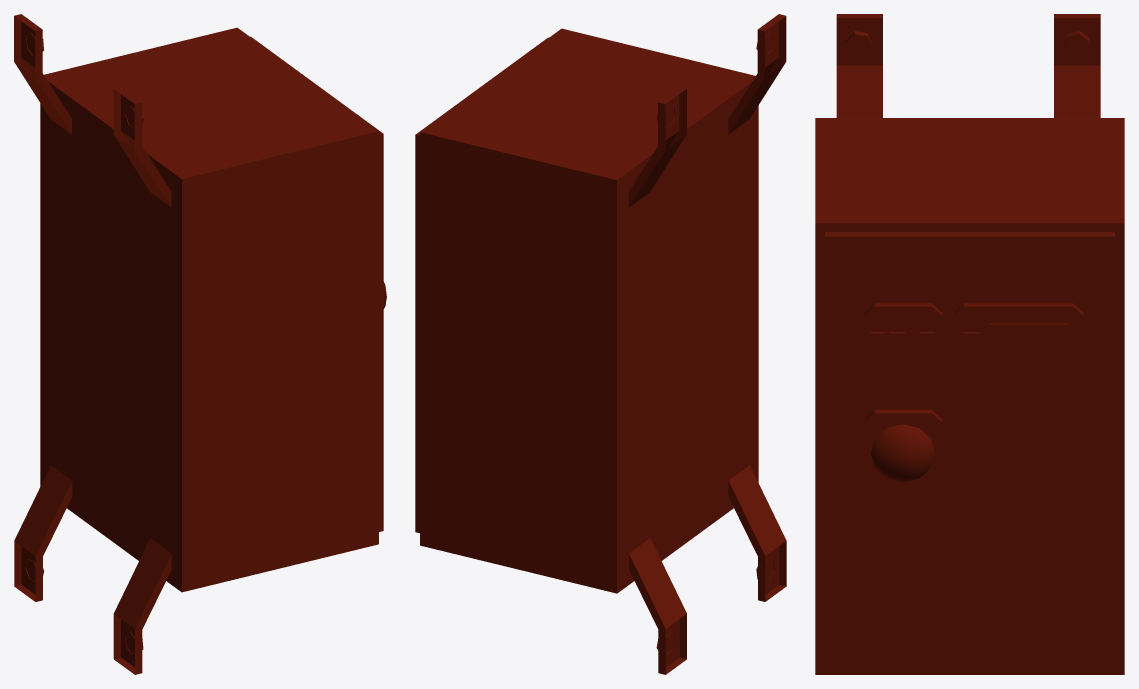
File: automation cabinet5.FBX
3 views of the same model, side by side, from view 1: azimuth 30°, elevation 25°; view 2: azimuth 150°, elevation 25°; view 3: azimuth 270°, elevation 25° (orthographic). The views are drawn at different scales.
Visible parts, largest first — view 1: automation cabinet5; view 2: automation cabinet5; view 3: automation cabinet5.
Boxes of the visible parts, left/top/right/bottom form: automation cabinet5: left=14, top=14, right=386, bottom=674; automation cabinet5: left=415, top=14, right=786, bottom=674; automation cabinet5: left=815, top=14, right=1124, bottom=674.
Size of the model in its own units: 33.58 by 66.48 by 29.89.
